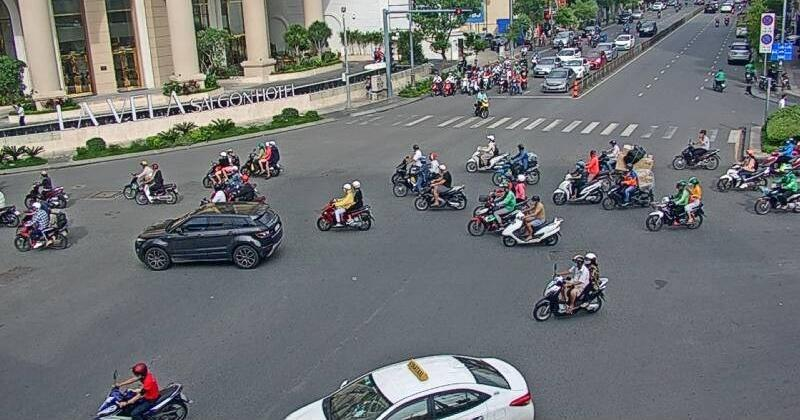xe hoi: (286, 356, 531, 420), (134, 200, 283, 270)
xe may: (92, 360, 190, 420), (533, 252, 608, 323), (644, 176, 706, 233), (502, 195, 562, 248), (316, 180, 372, 232), (14, 203, 70, 252), (412, 164, 467, 211), (752, 164, 800, 215), (551, 161, 604, 206), (716, 149, 768, 192), (670, 129, 721, 171), (491, 145, 540, 187), (465, 134, 508, 174), (473, 88, 489, 121)
